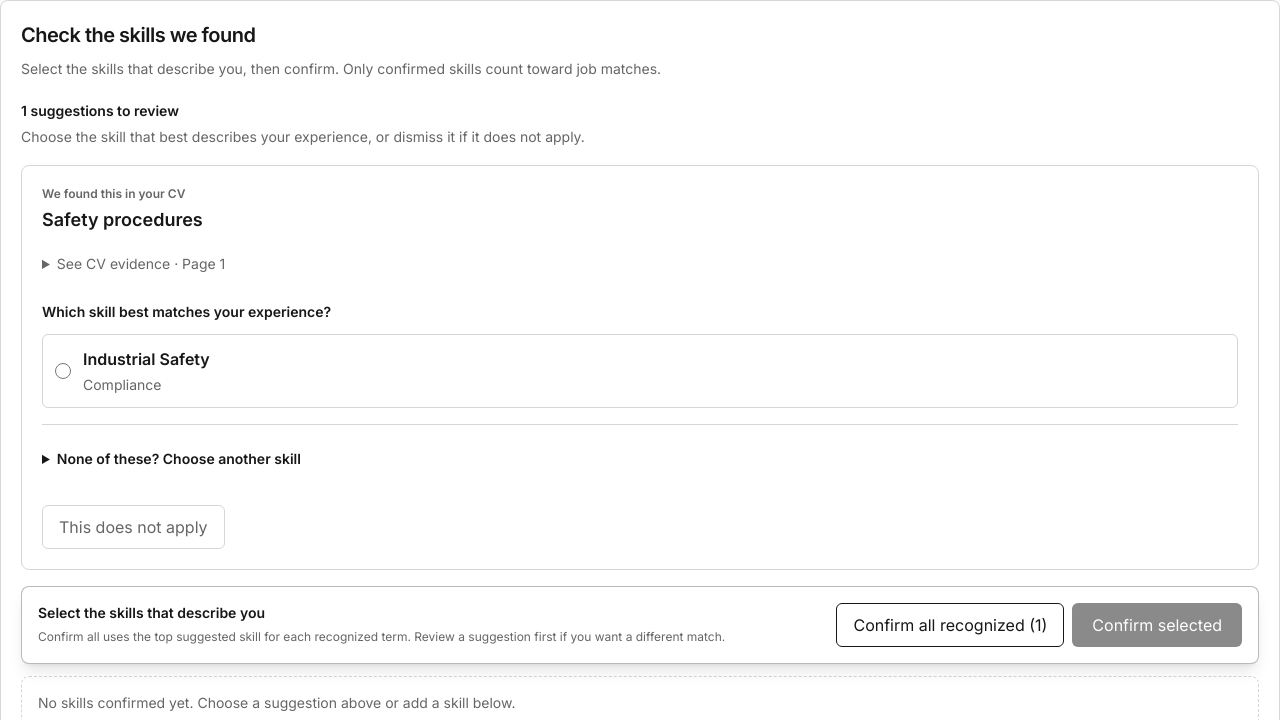
QualificationReview › clears the recalculation state when only a partial confirmation fails
Click the radio button labelled "Industrial Safety Compliance" at coordinates (63, 371), box [55,363,71,379]
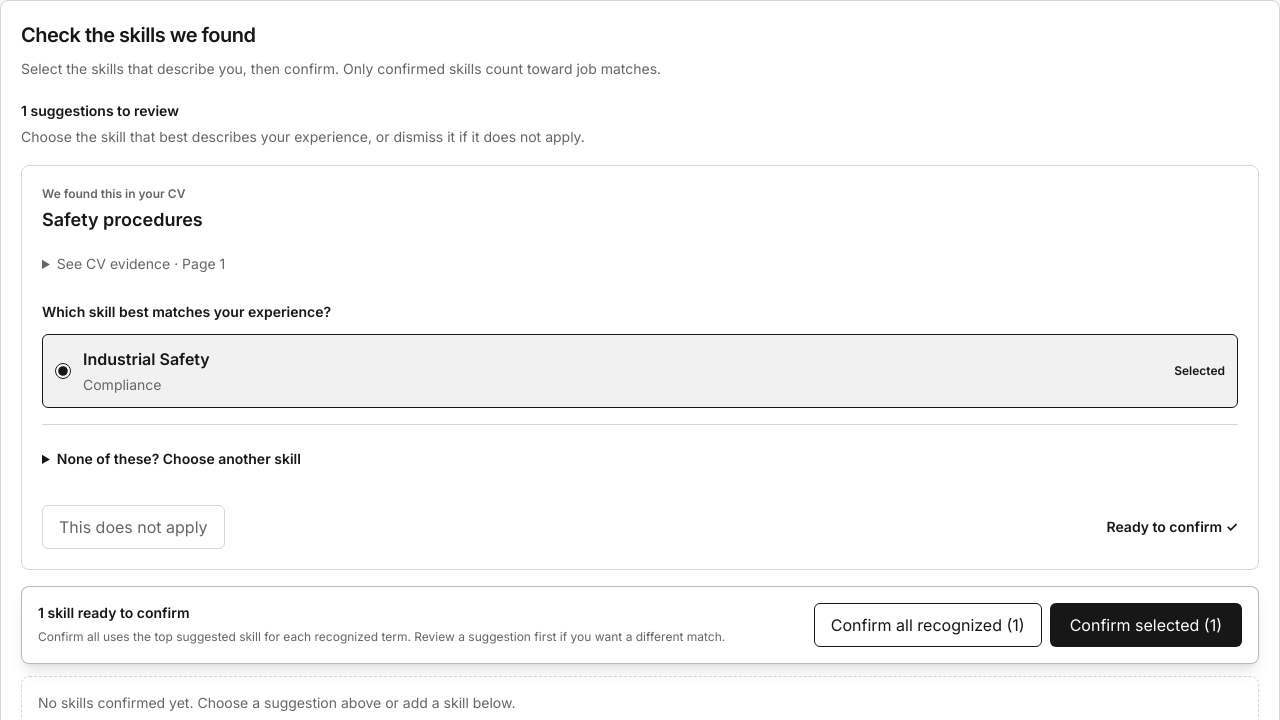
Click the button "Confirm selected (1)" at coordinates (1146, 625), box [1050,603,1242,647]
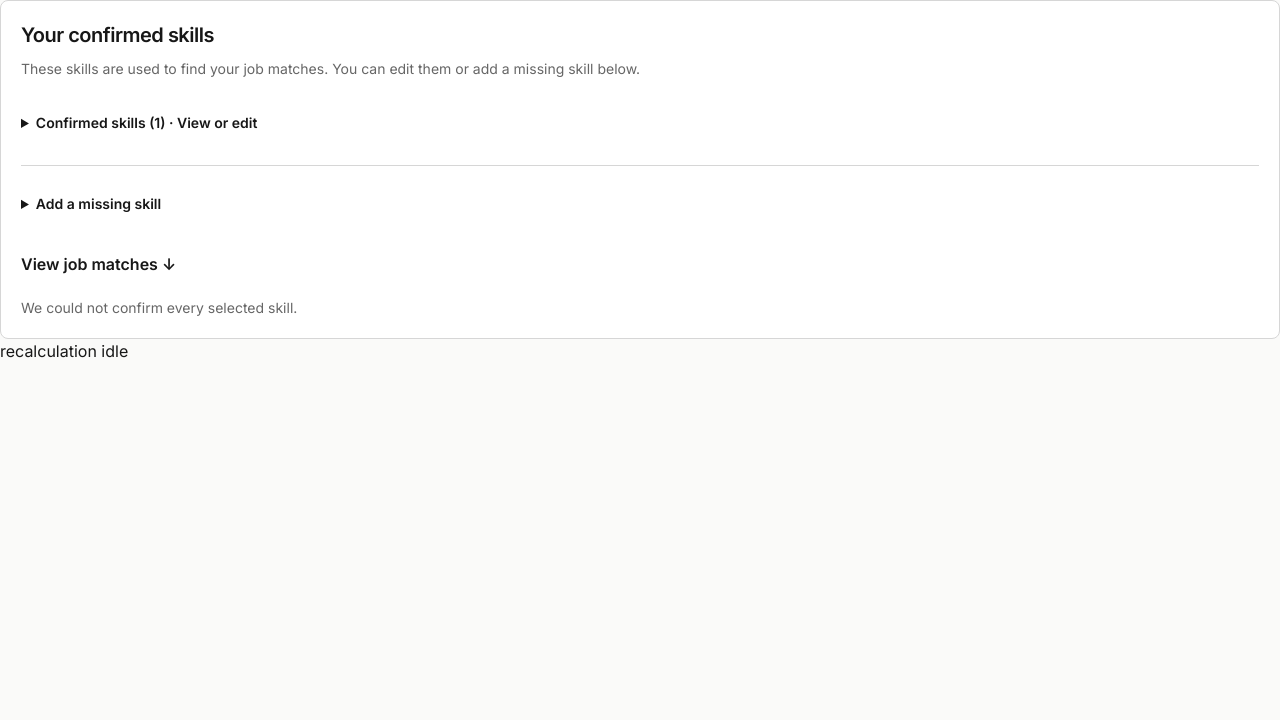
Expected: the text "recalculation idle" is shown, [0,341,128,361]
Now the text "We could not confirm every selected skill." is shown, box [21,299,297,316]
